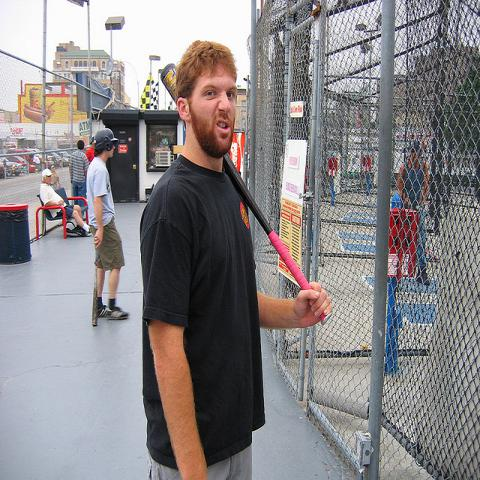car: (15, 149, 42, 166), (0, 156, 22, 176), (49, 152, 70, 167), (6, 156, 25, 165)
